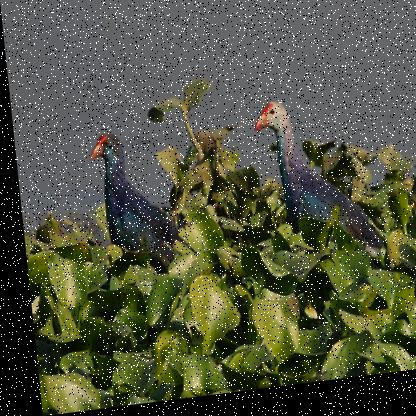Burung: (249, 96, 387, 293), (82, 126, 188, 278)
